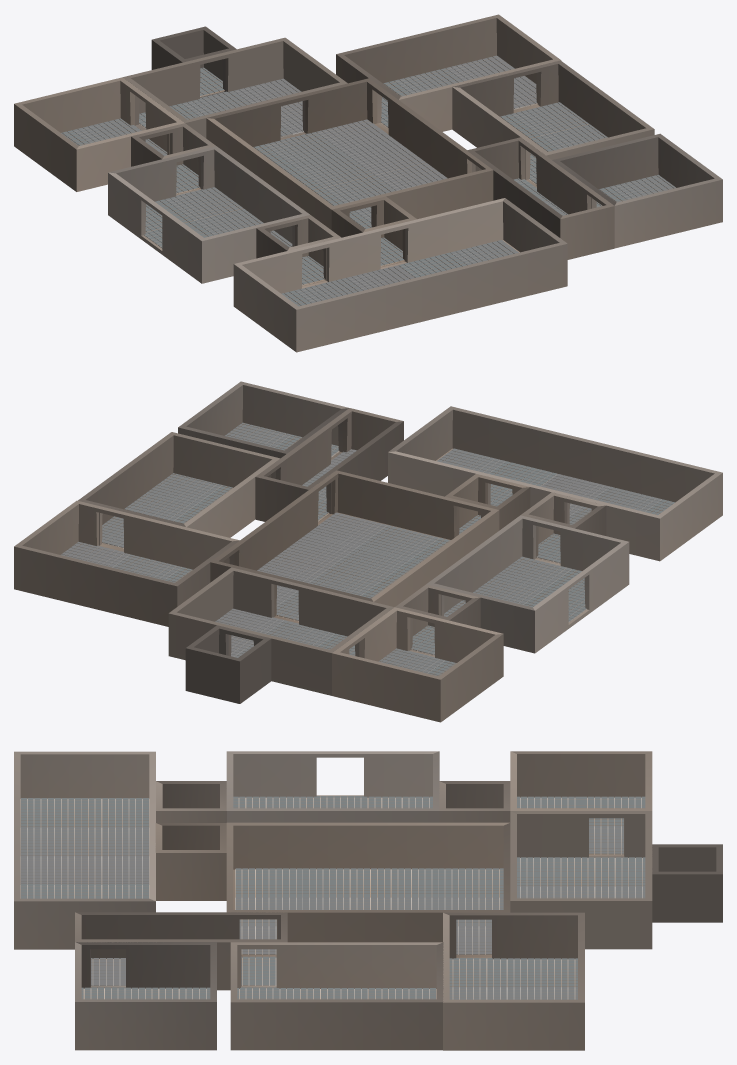
File: scene_floor and wall_v33.fbx
The picture shows the model from 3 angles, top to bottom: view 1: azimuth 30°, elevation 25°; view 2: azimuth 150°, elevation 25°; view 3: azimuth 270°, elevation 25°; orthographic projection. The views are drawn at different scales.
Visible parts, largest first — view 1: room.009, room.001, room.012, room.004, room.007, room.011, room.008, room.010, room.006, room.003, room.013, room.002 (+1 smaller); view 2: room.009, room.001, room.004, room.012, room.010, room.011, room.007, room.006, room.008, room.003, room.013, room.002 (+1 smaller); view 3: room.001, room.009, room.007, room.004, room.010, room.008, room.012, room.011, room.006, room.003, room.005, room.002 (+1 smaller).
Part boxes in pixels (x1,y1,x2,y2): room.009: (233,198,567,352); room.001: (206,78,493,229); room.012: (108,146,309,283); room.004: (336,14,561,131); room.007: (452,60,654,187); room.011: (14,77,184,191); room.008: (552,133,722,248); room.010: (123,37,347,138); room.006: (467,137,614,259); room.003: (151,26,236,97); room.013: (256,215,341,286); room.002: (131,123,215,194); room.009: (388,406,722,561); room.001: (210,470,499,623); room.004: (14,500,239,626); room.012: (426,515,629,653); room.010: (168,567,394,695); room.011: (332,607,503,722); room.007: (78,432,280,551); room.006: (255,408,403,522); room.008: (178,381,348,460); room.003: (185,625,271,703); room.013: (521,492,606,564); room.002: (395,584,480,656); room.001: (226,822,510,957); room.009: (14,751,155,949); room.007: (230,942,443,1050); room.004: (443,912,584,1050); room.010: (510,811,652,949); room.008: (75,942,216,1050); room.012: (226,751,439,822); room.011: (510,751,652,855); room.006: (75,912,287,990); room.003: (652,844,722,922); room.005: (155,823,226,900); room.002: (439,781,510,822).
Bounding box in the file's own units: 3271 × 293 × 3898.
